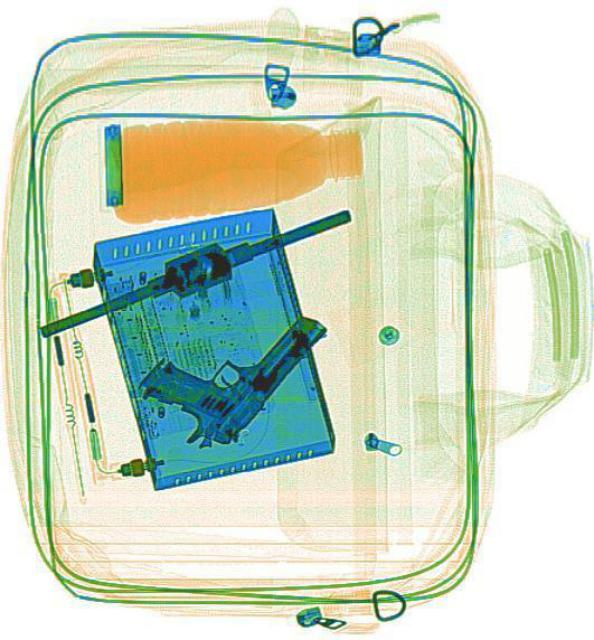Gun: (125, 259, 326, 466)
